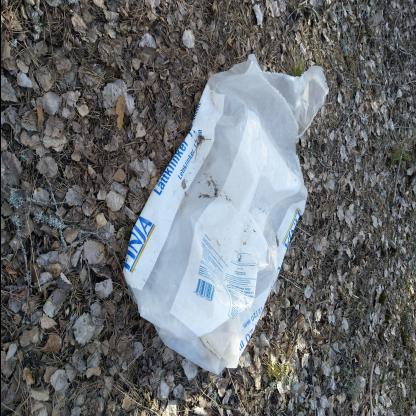plastik: (121, 53, 328, 375)
